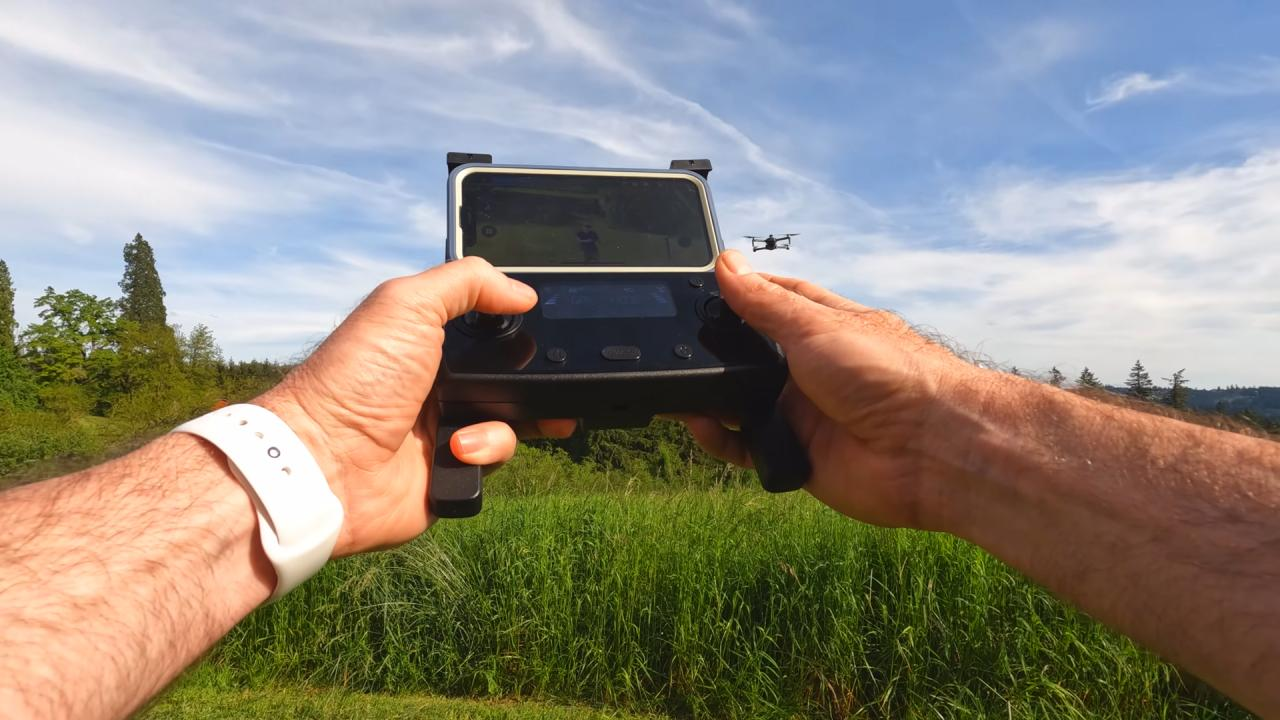Drone: (739, 226, 805, 264)
